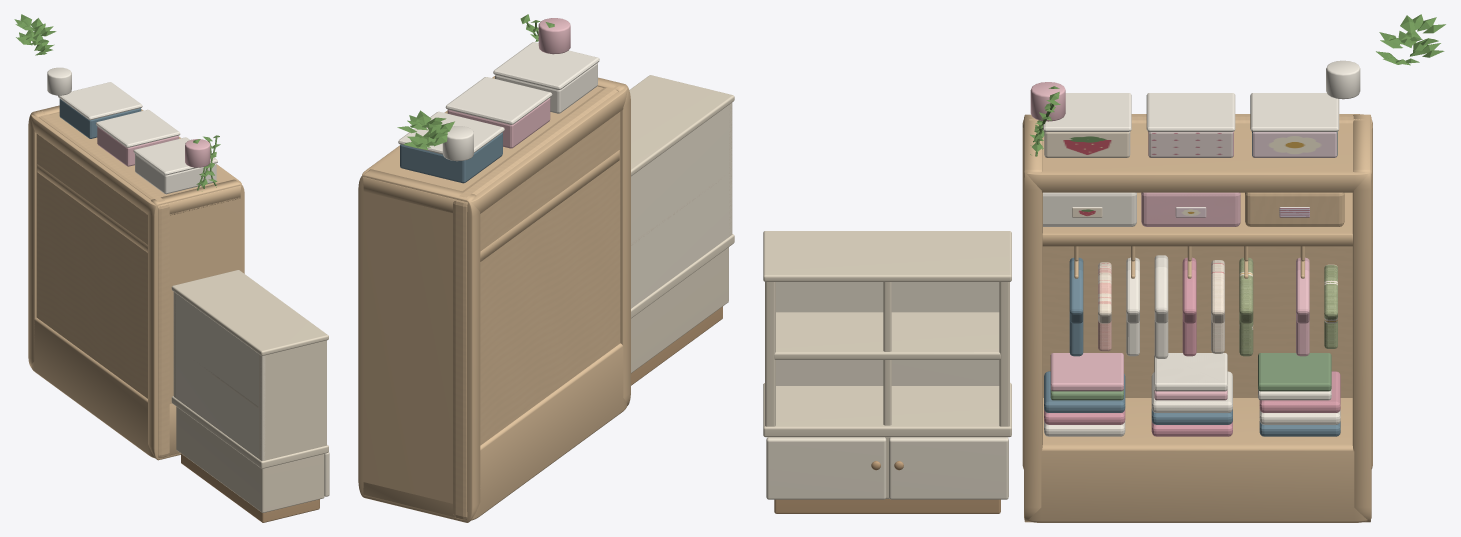
Rendered from display-cabinet-v002.glb.
3 views of the same model, side by side, from view 1: azimuth 30°, elevation 25°; view 2: azimuth 150°, elevation 25°; view 3: azimuth 270°, elevation 25° (orthographic). The views are drawn at different scales.
Visible parts, largest first — view 1: PH1_Wardrobe_Back, PH1_Wardrobe_Side_Near, DISPLAY_Open_Back, PH1_Wardrobe_Base, DISPLAY_Side_-1, DISPLAY_Top, DISPLAY_Lower_Carcass, PH1_Wardrobe_Top, PH1_Wardrobe_Side_Far, DEN_WardrobeTopLid1, DEN_WardrobeTopLid2, DISPLAY_Plinth (+9 smaller); view 2: PH1_Wardrobe_Back, PH1_Wardrobe_Side_Far, DISPLAY_Open_Back, PH1_Wardrobe_Base, PH1_Wardrobe_Top, DISPLAY_Top, DISPLAY_Lower_Carcass, PH1_Wardrobe_Side_Near, DEN_WardrobeTopLid1, DEN_WardrobeTopLid0, DEN_WardrobeTopBox2, PH1_Wardrobe_Shelf (+8 smaller); view 3: PH1_Wardrobe_Base, PH1_Wardrobe_Back, PH1_Wardrobe_Top, DISPLAY_Top, DISPLAY_Open_Back, DISPLAY_Base_Counter, DISPLAY_Middle_Shelf, PH1_Wardrobe_Side_Far, DISPLAY_Closed_Door_1, DISPLAY_Closed_Door_2, PH1_Wardrobe_Side_Near, PH1_Wardrobe_Shelf (+37 smaller).
Part boxes in pixels (x1,y1,x2,y2): PH1_Wardrobe_Back: (36,111,169,457); PH1_Wardrobe_Side_Near: (148,179,244,460); DISPLAY_Open_Back: (173,292,265,460); PH1_Wardrobe_Base: (31,317,179,458); DISPLAY_Side_-1: (259,340,326,460); DISPLAY_Top: (171,270,328,355); DISPLAY_Lower_Carcass: (176,406,324,512); PH1_Wardrobe_Top: (31,109,241,215); PH1_Wardrobe_Side_Far: (28,105,59,367); DEN_WardrobeTopLid1: (95,109,180,147); DEN_WardrobeTopLid2: (58,82,142,120); DISPLAY_Plinth: (181,453,319,522); PH1_Wardrobe_Back: (453,84,620,519); PH1_Wardrobe_Side_Far: (358,169,480,522); DISPLAY_Open_Back: (631,103,732,308); PH1_Wardrobe_Base: (363,343,627,520); PH1_Wardrobe_Top: (362,76,627,213); DISPLAY_Top: (629,75,734,176); DISPLAY_Lower_Carcass: (631,247,728,373); PH1_Wardrobe_Side_Near: (597,77,630,405); DEN_WardrobeTopLid1: (445,77,552,124); DEN_WardrobeTopLid0: (493,42,599,89); DEN_WardrobeTopBox2: (400,132,502,183); PH1_Wardrobe_Shelf: (480,150,619,261); PH1_Wardrobe_Base: (1024,398,1371,522); PH1_Wardrobe_Back: (1022,115,1372,469); PH1_Wardrobe_Top: (1024,114,1371,192); DISPLAY_Top: (763,231,1011,281); DISPLAY_Open_Back: (776,282,999,385); DISPLAY_Base_Counter: (763,383,1011,437); DISPLAY_Middle_Shelf: (774,312,1000,359); PH1_Wardrobe_Side_Far: (1352,114,1371,522); DISPLAY_Closed_Door_1: (766,437,886,499); DISPLAY_Closed_Door_2: (889,437,1008,499); PH1_Wardrobe_Side_Near: (1024,114,1042,522); PH1_Wardrobe_Shelf: (1042,192,1352,246).
Bounding box in the file's own units: 0.94 × 3.27 × 4.46.
Materials: 20 (10 with a texture image).
